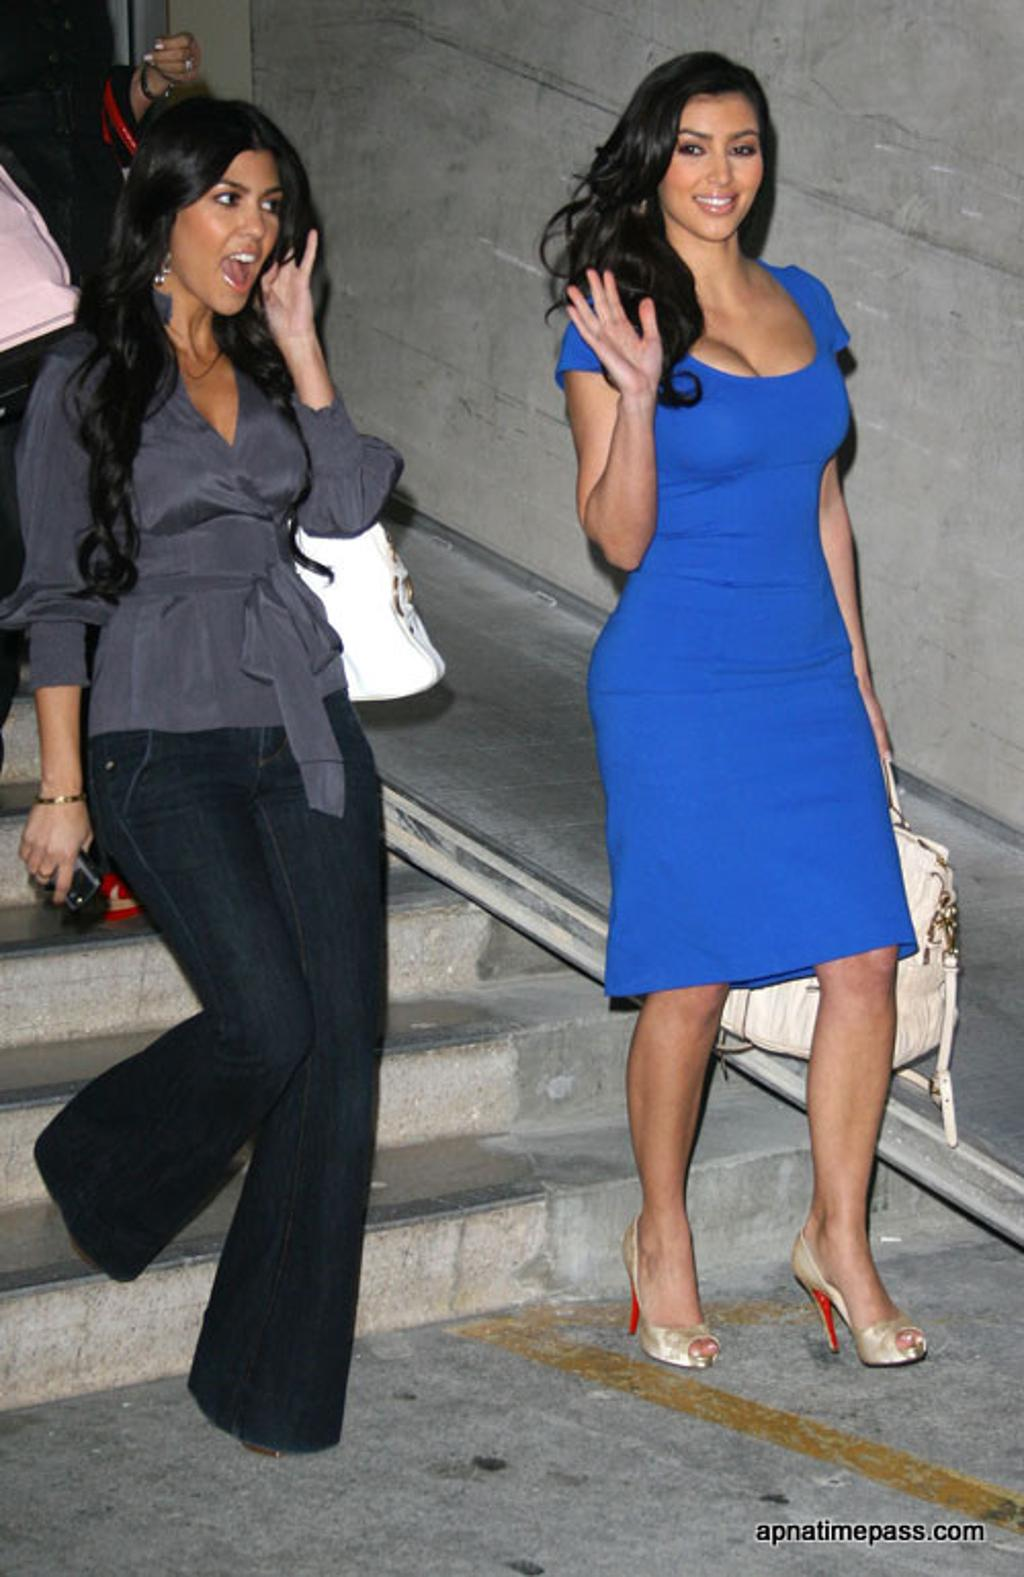face: (160, 142, 283, 315), (654, 93, 762, 241)
